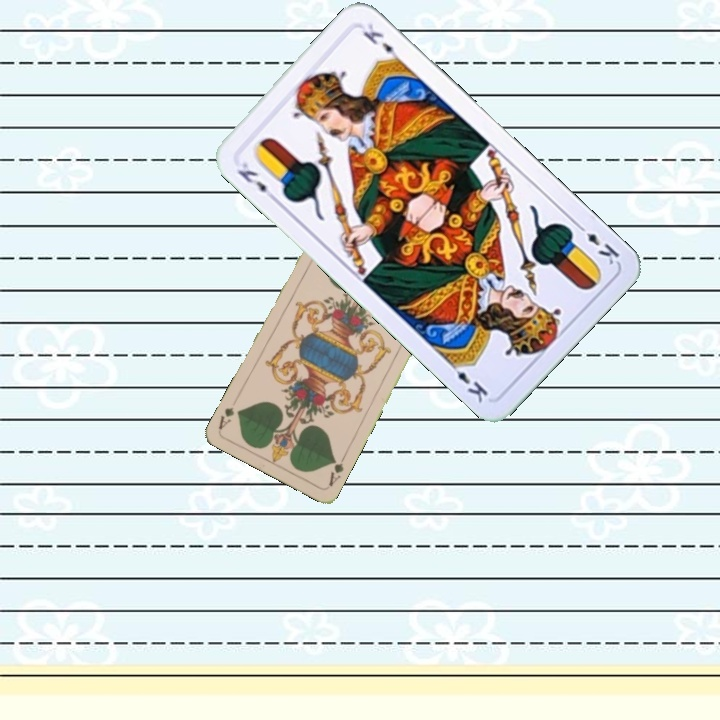EK: (572, 219, 622, 268), (233, 158, 279, 204)
GA: (325, 451, 348, 489)
